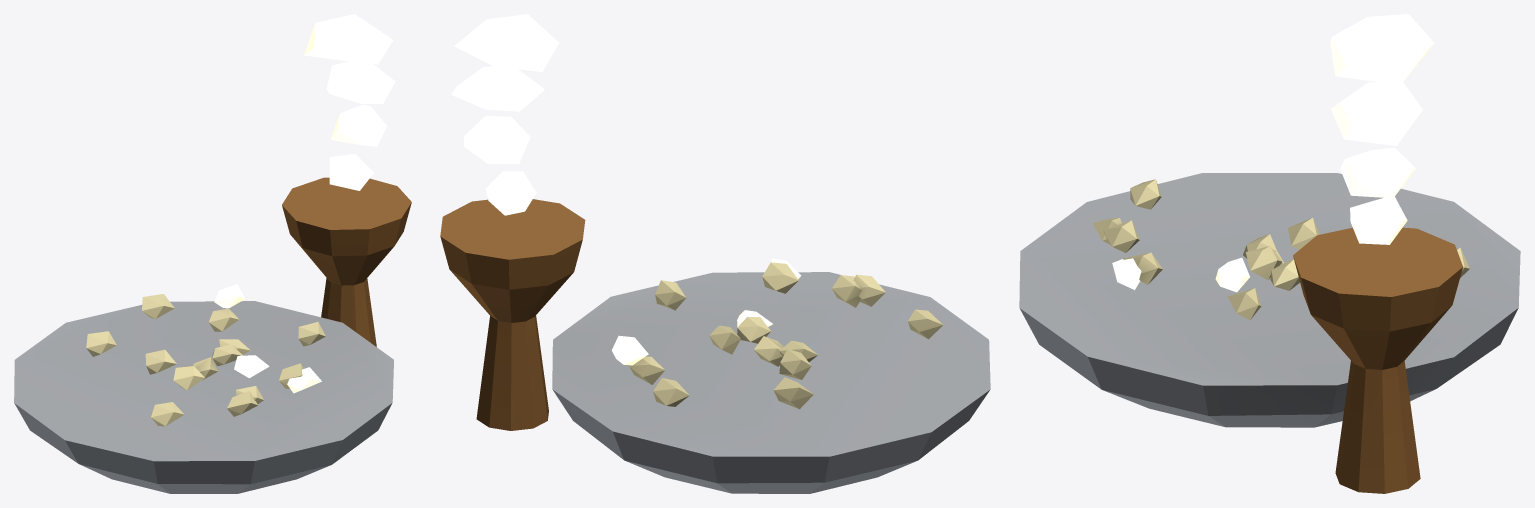
The picture shows the model from 3 angles, left to right: view 1: azimuth 30°, elevation 25°; view 2: azimuth 150°, elevation 25°; view 3: azimuth 270°, elevation 25°; orthographic projection. The views are drawn at different scales.
Visible parts, largest first — view 1: base, smoke_m; view 2: base, smoke_m; view 3: base, smoke_m.
Part boxes in pixels (left/top/right/bottom): base: left=14, top=177, right=411, bottom=493; smoke_m: left=304, top=14, right=395, bottom=190; base: left=440, top=199, right=990, bottom=493; smoke_m: left=451, top=14, right=558, bottom=215; base: left=1019, top=173, right=1520, bottom=493; smoke_m: left=1330, top=14, right=1434, bottom=244.
Bounding box in the file's own units: 0.573 × 0.4602 × 0.4651.
